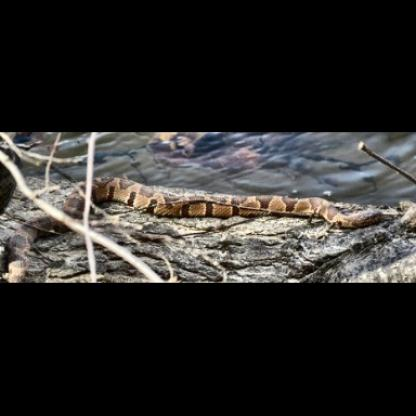Snake: (7, 171, 413, 229)
